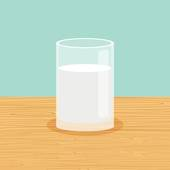glass of milk: (60, 44, 110, 129)
